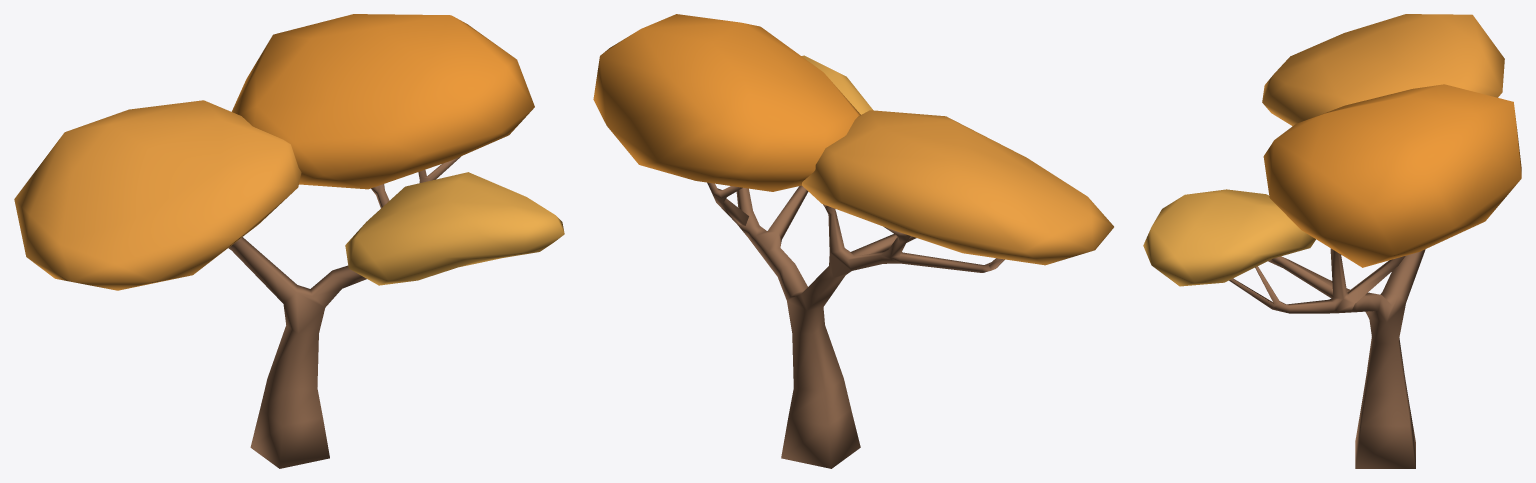
File: Acacia_Orange_1.fbx
3 views of the same model, side by side, from view 1: azimuth 30°, elevation 25°; view 2: azimuth 150°, elevation 25°; view 3: azimuth 270°, elevation 25° (orthographic). The views are drawn at different scales.
Parts seen in each view (by area): view 1: Icosphere_003, Icosphere_001, Icosphere_002, Cube_027; view 2: Icosphere_001, Icosphere_003, Cube_027, Icosphere_002; view 3: Icosphere_001, Icosphere_003, Cube_027, Icosphere_002.
Boxes of the visible parts, x1,y1,x2,y2 form: Icosphere_003: [14, 100, 301, 290]; Icosphere_001: [231, 14, 534, 189]; Icosphere_002: [345, 172, 564, 285]; Cube_027: [228, 156, 460, 468]; Icosphere_001: [593, 14, 860, 191]; Icosphere_003: [802, 110, 1113, 265]; Cube_027: [707, 182, 1004, 468]; Icosphere_002: [801, 55, 872, 114]; Icosphere_001: [1263, 84, 1521, 267]; Icosphere_003: [1262, 14, 1504, 126]; Cube_027: [1229, 248, 1425, 468]; Icosphere_002: [1143, 189, 1315, 286].
Bounding box in the file's own units: 951 × 730 × 611.
